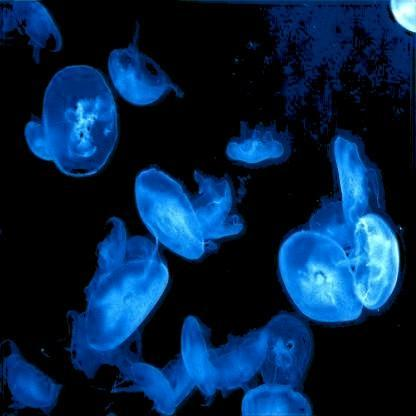Handstand: (17, 1, 61, 87)
Speckle: (30, 307, 141, 388), (44, 67, 117, 177), (276, 229, 361, 323), (83, 265, 167, 349), (108, 21, 183, 109), (134, 171, 204, 261), (333, 135, 385, 241), (339, 219, 401, 307), (206, 319, 268, 394), (3, 344, 63, 412), (260, 316, 314, 391), (105, 363, 175, 415), (84, 215, 126, 281), (184, 316, 218, 396), (307, 202, 363, 246), (225, 124, 286, 163), (240, 383, 311, 415), (191, 172, 234, 224), (156, 357, 196, 410), (24, 102, 56, 160), (125, 233, 163, 271), (199, 215, 243, 244), (1, 4, 21, 50)
